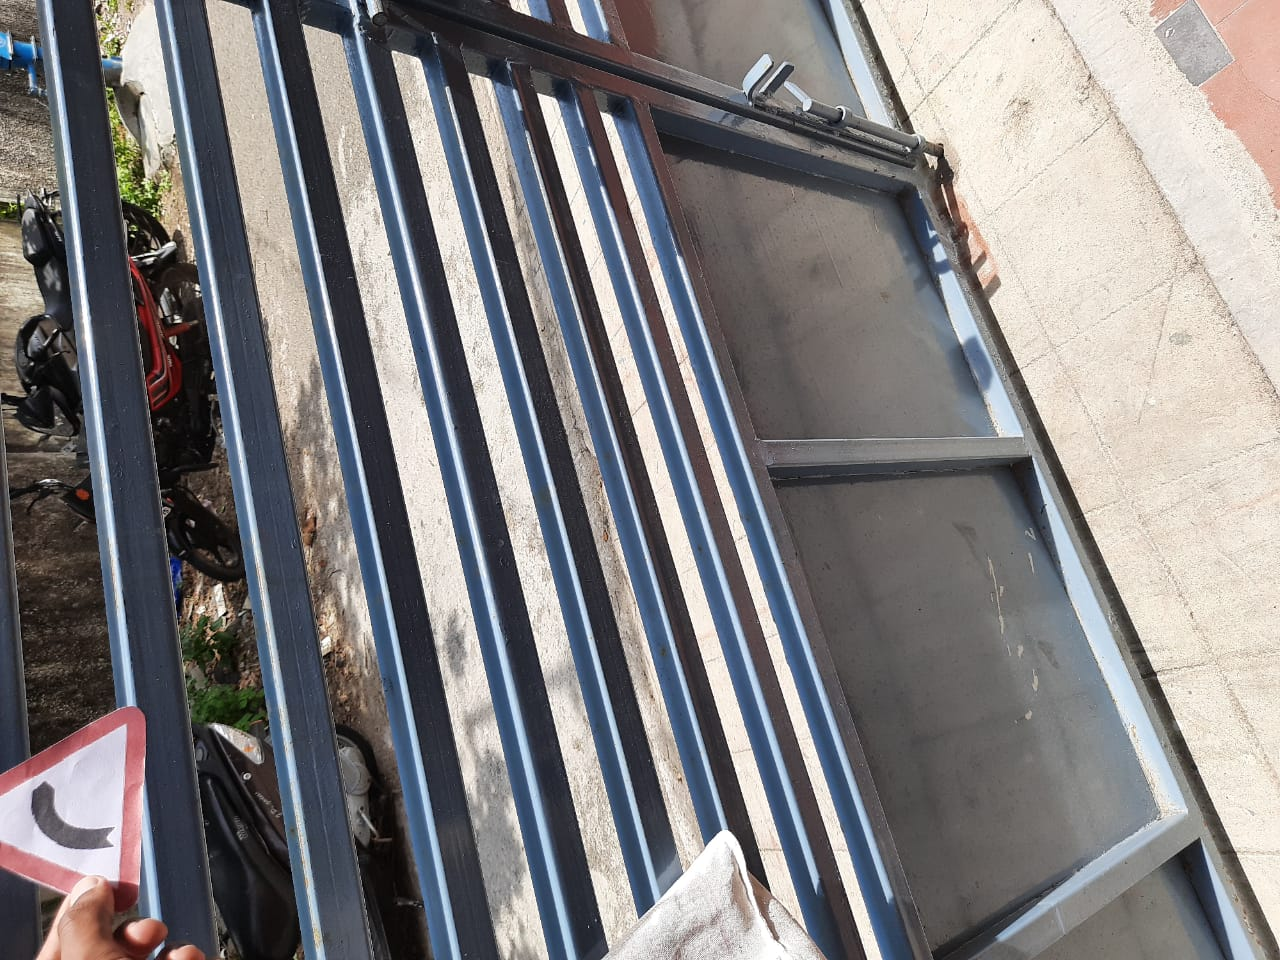RIGHT CURVE: (1, 670, 191, 916)
